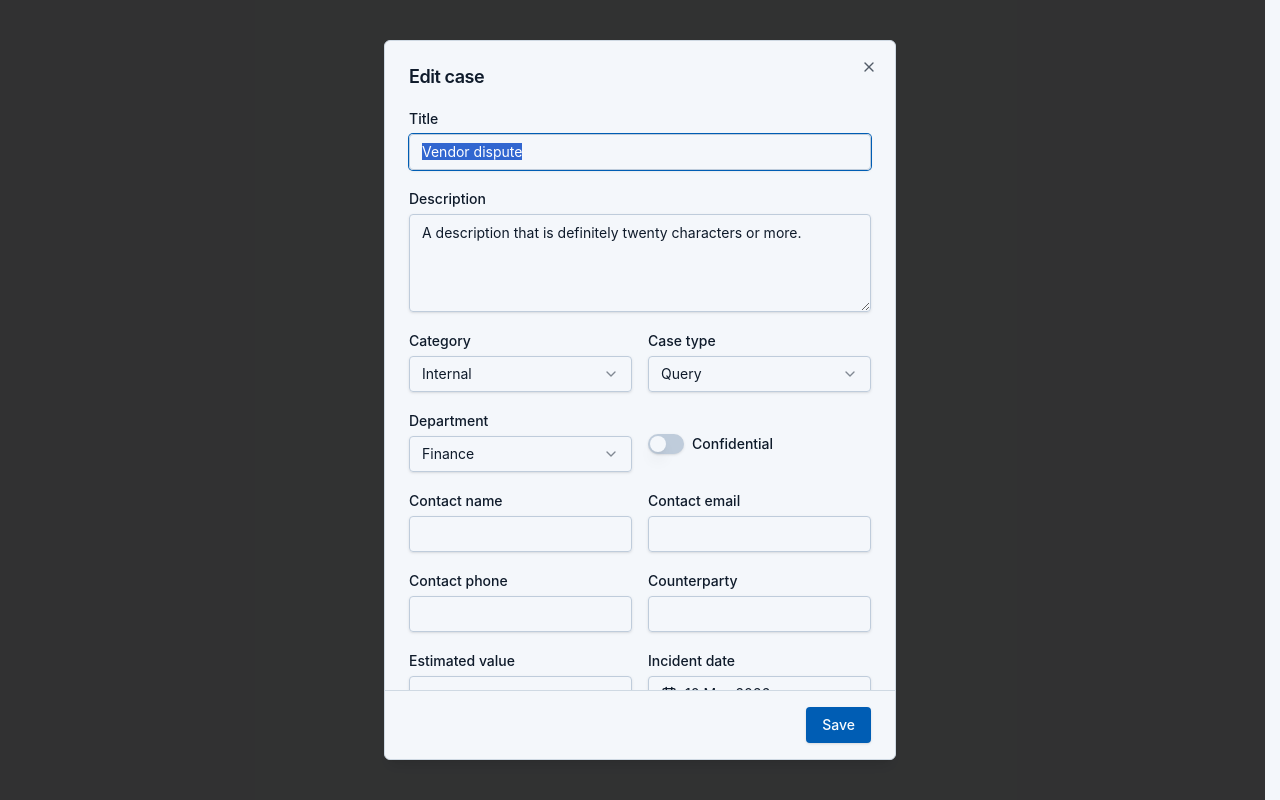
Scenario: EditCaseDialog date rules › will not save a deadline that is not after the incident date
What coordinates should you click on to do the following:
click the button "Save"
I would click on:
 (839, 725)
Its box is [806,707,871,743].
(page scrolled)
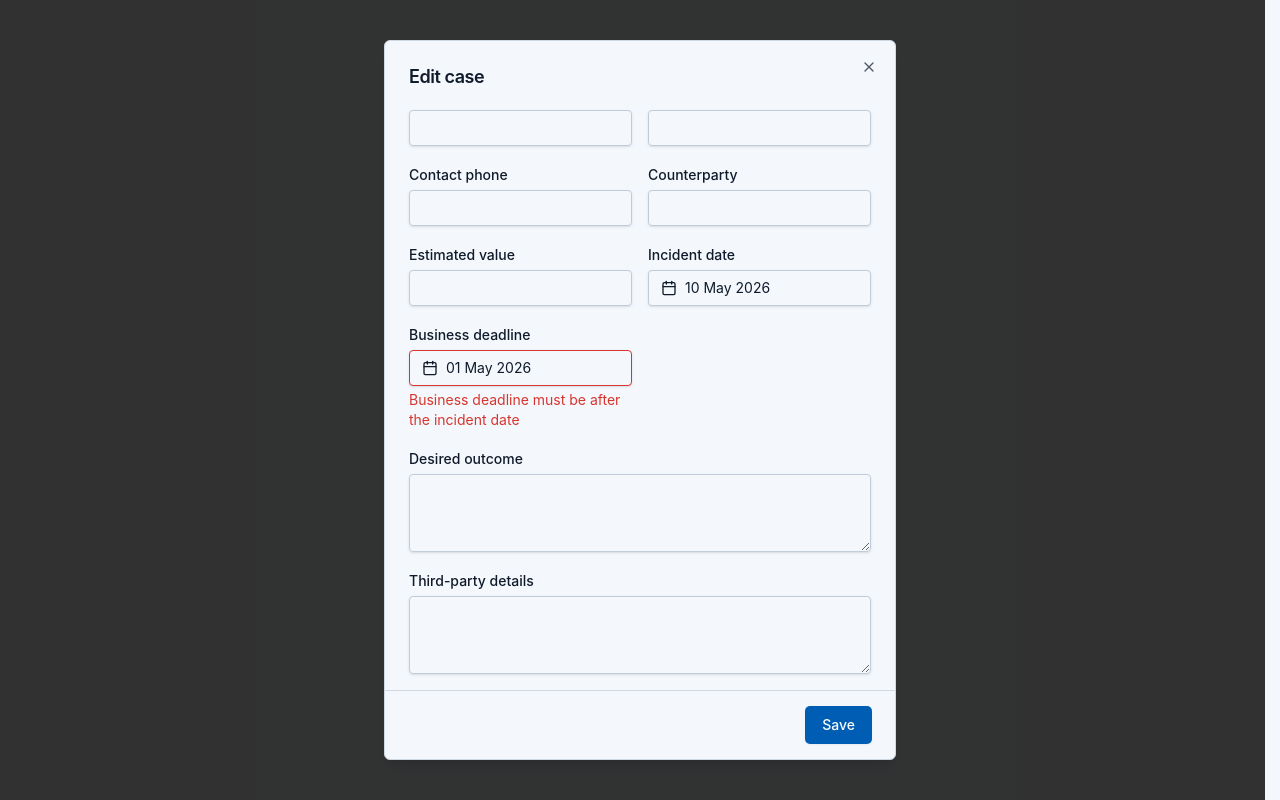
expect the text "Business deadline must be after the incident date" is shown: met, box [409,390,632,430]
